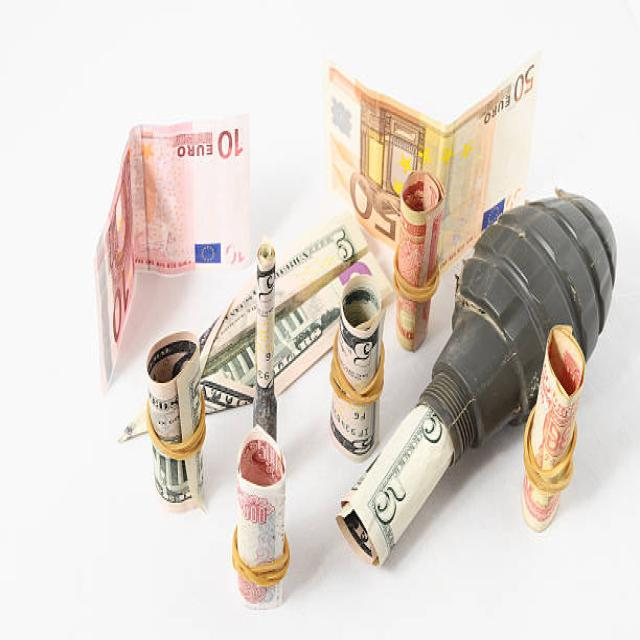grenade: (436, 186, 621, 439)
